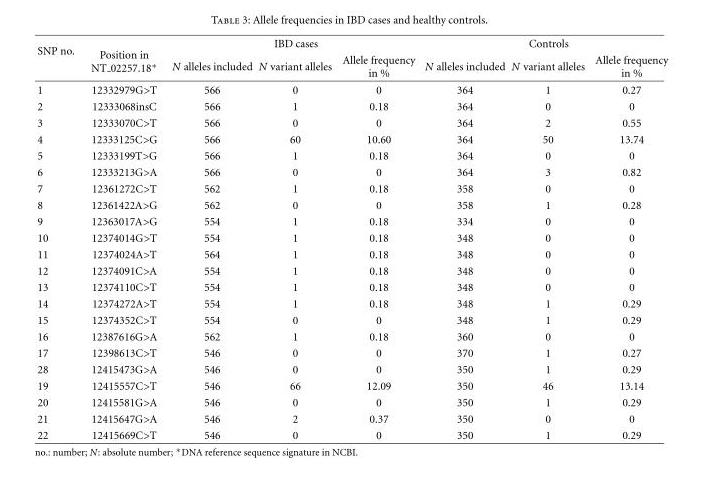table: (36, 37, 667, 441)
table column: (163, 37, 254, 441), (419, 37, 507, 441), (336, 37, 419, 441), (254, 37, 336, 441), (507, 37, 589, 441), (82, 37, 163, 441), (589, 37, 667, 441), (36, 37, 82, 441)
table column header: (36, 37, 667, 81)
table row: (36, 51, 667, 81), (36, 97, 667, 114), (36, 130, 667, 147), (36, 163, 667, 180), (36, 196, 667, 213), (36, 245, 667, 262), (36, 278, 667, 295), (36, 311, 667, 328), (36, 344, 667, 361), (36, 393, 667, 410), (36, 81, 667, 97), (36, 114, 667, 130), (36, 147, 667, 163), (36, 180, 667, 196), (36, 213, 667, 229), (36, 229, 667, 245), (36, 262, 667, 278), (36, 295, 667, 311), (36, 328, 667, 344), (36, 361, 667, 377), (36, 377, 667, 393), (36, 410, 667, 426), (36, 426, 667, 441), (36, 37, 667, 51)
table spanning cell: (163, 37, 419, 51), (82, 37, 163, 81), (419, 37, 667, 51), (36, 37, 82, 81)
